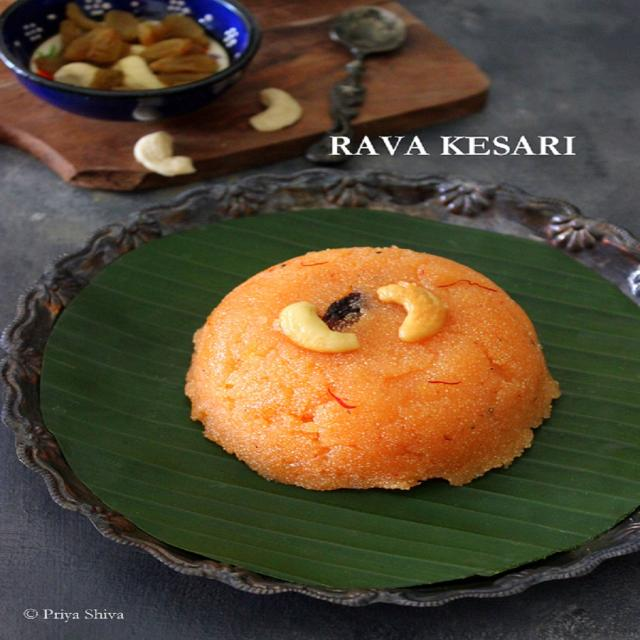kesari bath: (176, 236, 564, 508)
